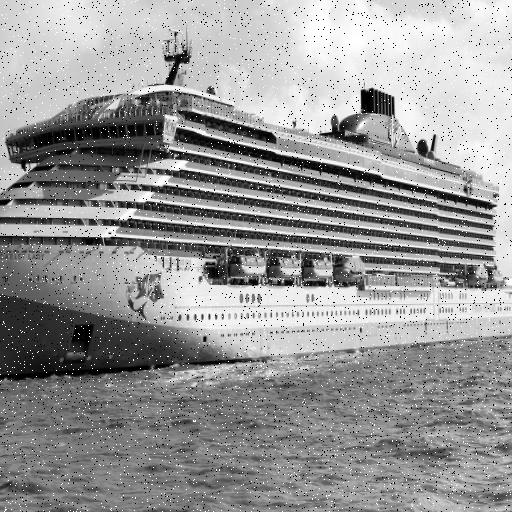cruises: (1, 26, 512, 392)
